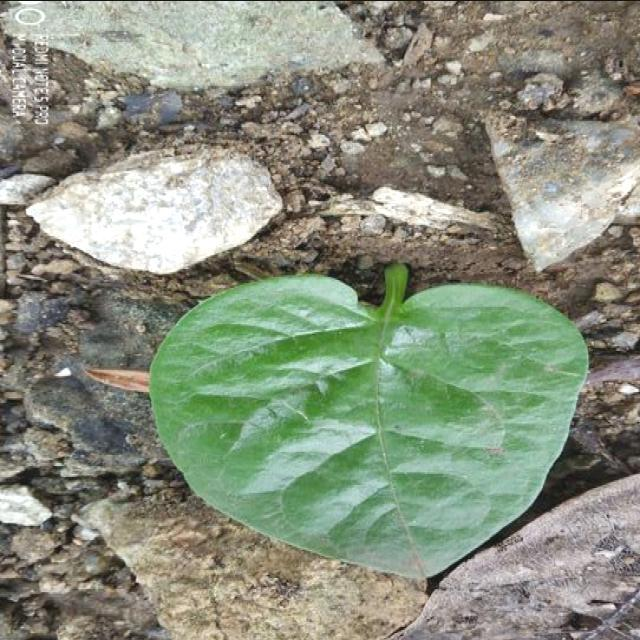leaf: (146, 263, 589, 581)
